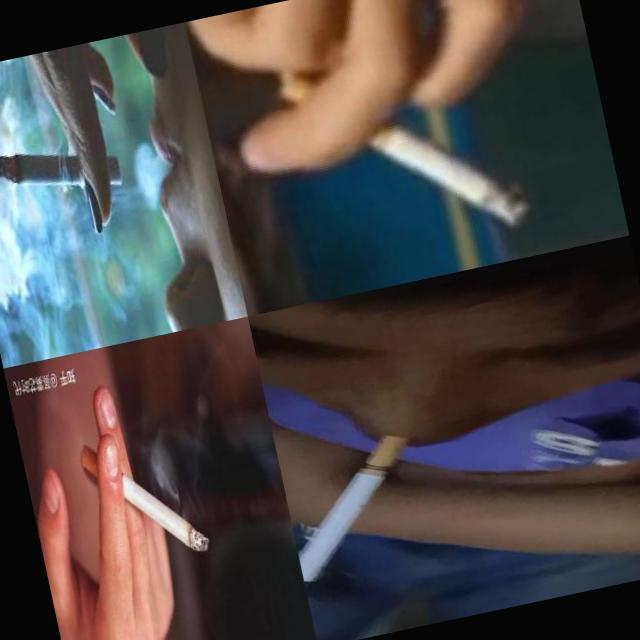cigarette: (360, 96, 541, 260), (278, 430, 427, 583), (77, 422, 211, 574), (0, 133, 123, 212)
